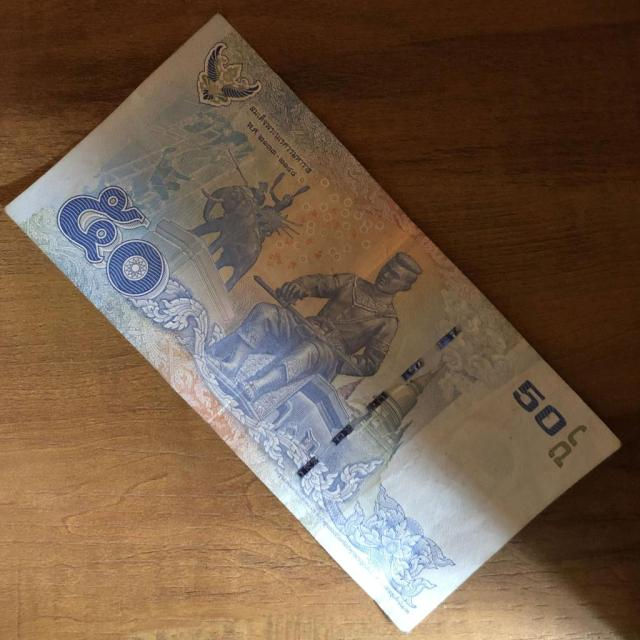THAI50: (7, 16, 619, 630)
